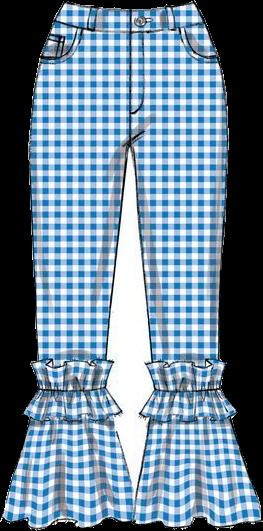Hemline: (2, 513, 136, 530), (133, 513, 262, 530), (21, 409, 125, 427), (136, 409, 239, 427)
Pantleg: (126, 0, 260, 527), (2, 3, 136, 529)
Waistline: (52, 16, 207, 36), (62, 0, 198, 14), (37, 385, 105, 395), (151, 385, 221, 394)
